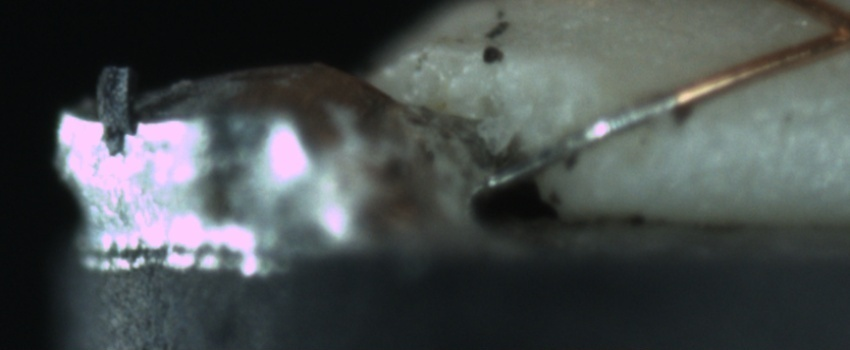TS: (479, 89, 679, 191)
